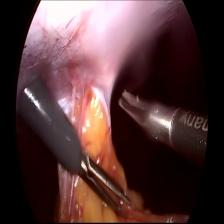Grasper: (80, 150, 136, 220)
Scissors: (118, 87, 178, 148)
